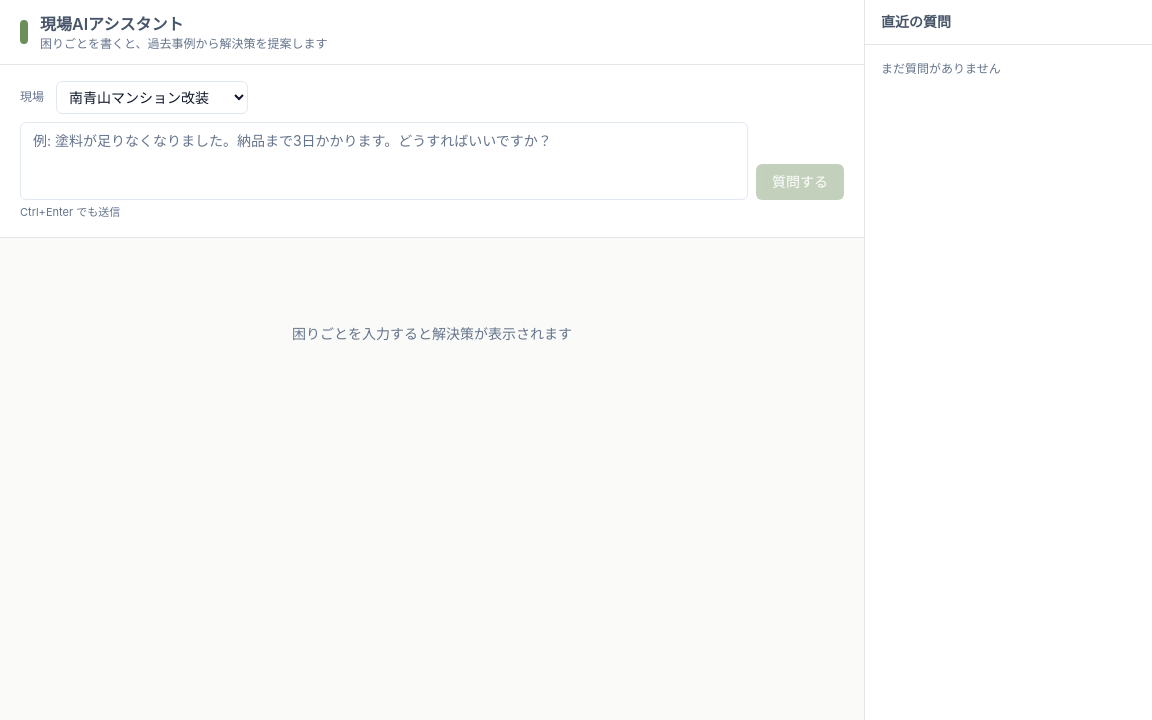
Test: SiteAssistantPage › テキスト入力後に「質問する」ボタンが有効になる
Type "塗料が足りない" into the text box.
click(384, 161); type("塗料が足りない")  # box [20,122,748,200]
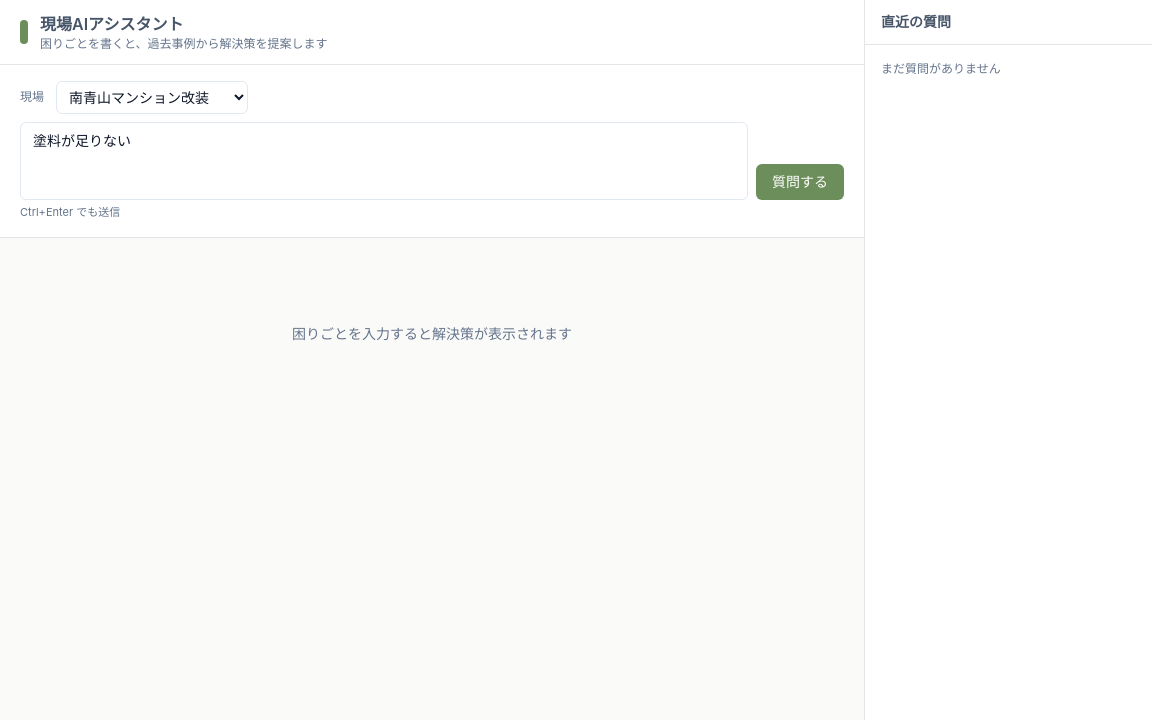
Expected: the button "質問する" is enabled, [756,164,844,200]
